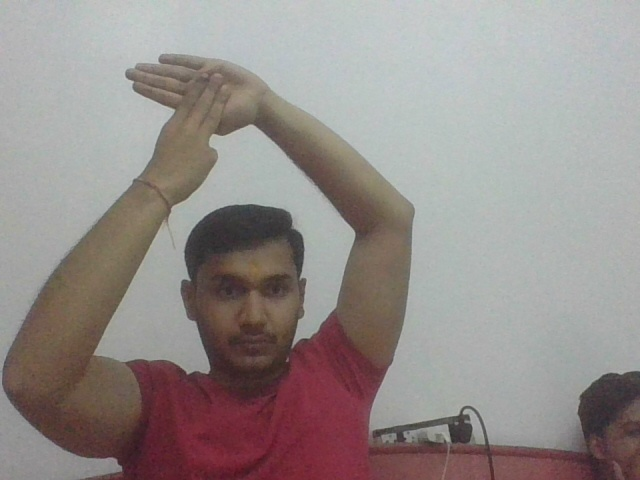M: (122, 52, 263, 174)
